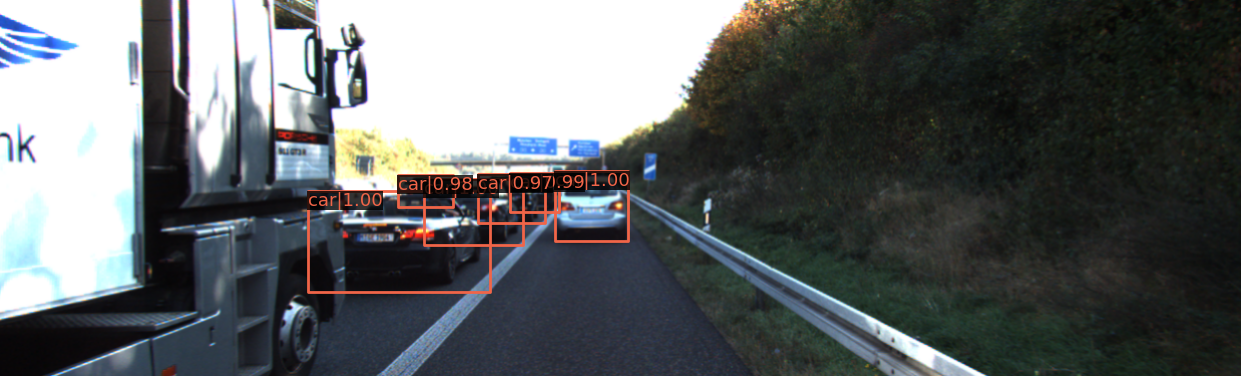car: (318, 194, 486, 294), (427, 181, 520, 245), (289, 178, 391, 235), (554, 175, 628, 242), (479, 174, 541, 224), (405, 175, 460, 214), (515, 176, 558, 212)
